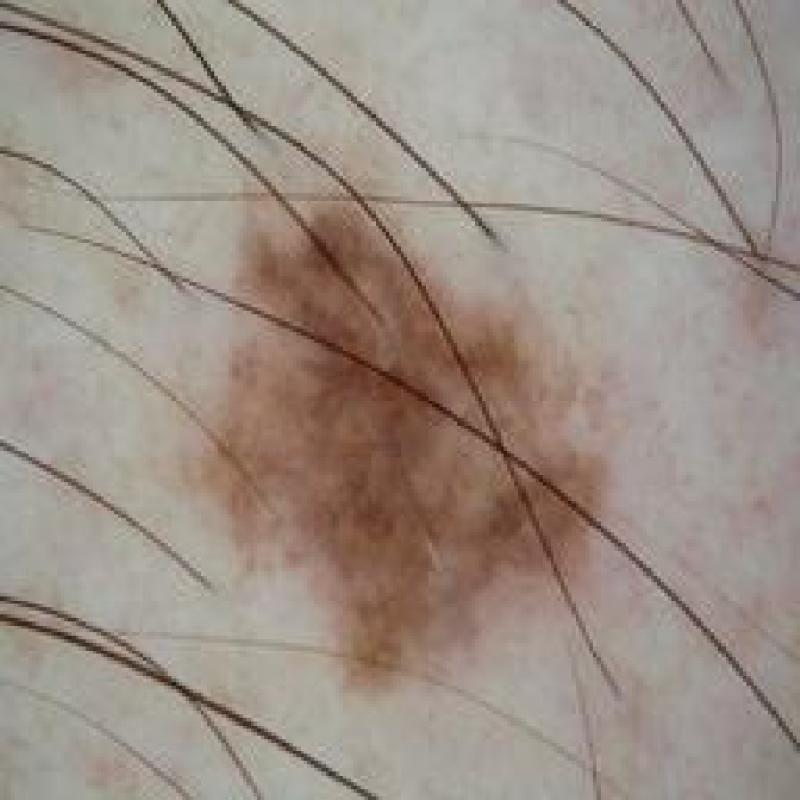malignant: (145, 177, 626, 708)
